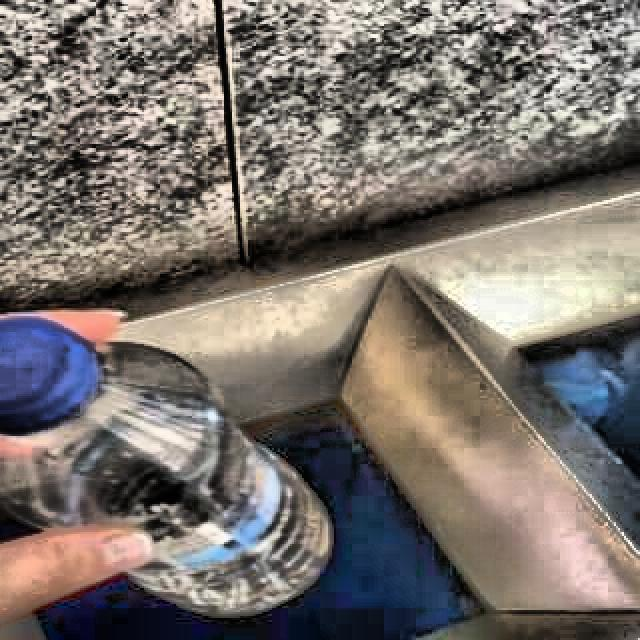plastic: (0, 318, 328, 617)
